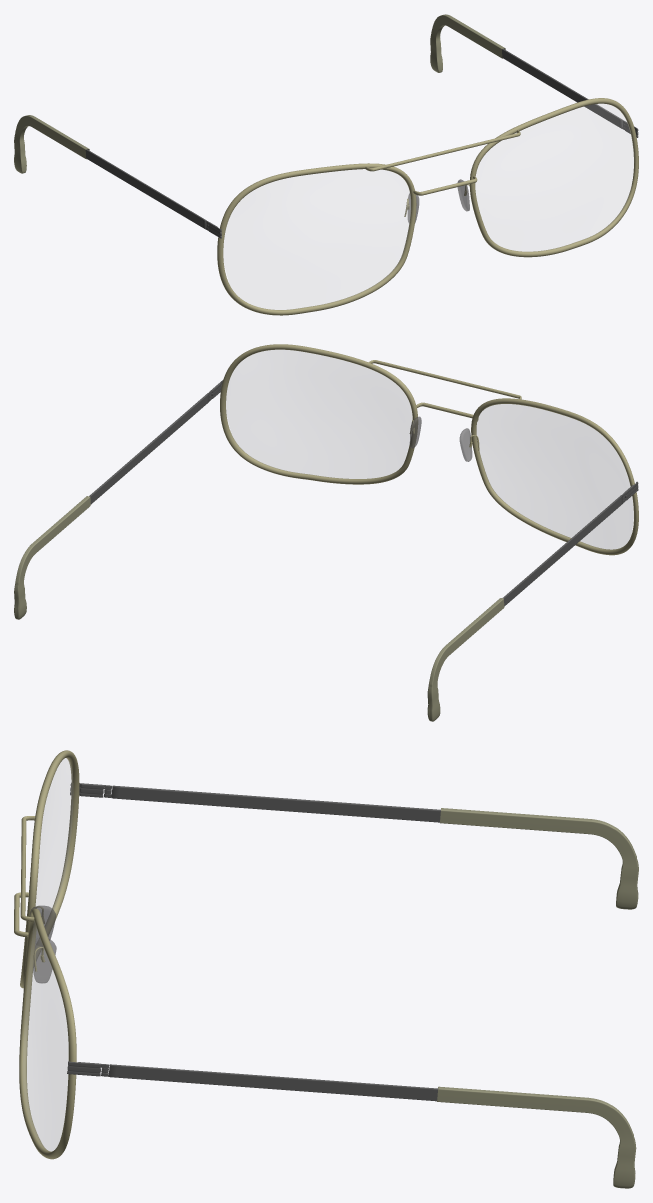
File: glasses4.glb
3 renders of one model, top to bottom at view 1: azimuth 30°, elevation 25°; view 2: azimuth 150°, elevation 25°; view 3: azimuth 270°, elevation 25°, orthographic. The views are drawn at different scales.
Parts seen in each view (by area): view 1: BezierCurve.001, BezierCurve, Cube.002, Cube.001, Cylinder; view 2: BezierCurve.001, BezierCurve, Cube.002, Cube.001, Cylinder, Cylinder.002; view 3: BezierCurve.001, Cube.001, Cube.002, BezierCurve, Cylinder.002, Cylinder.
Part boxes in pixels (<box>): BezierCurve.001: <box>223,104,633,309</box>; BezierCurve: <box>217,98,638,315</box>; Cube.002: <box>14,14,505,173</box>; Cube.001: <box>85,48,638,238</box>; Cylinder: <box>365,130,520,171</box>; BezierCurve.001: <box>226,350,633,549</box>; BezierCurve: <box>220,344,638,555</box>; Cube.002: <box>14,496,504,721</box>; Cube.001: <box>89,380,638,606</box>; Cylinder: <box>368,360,521,399</box>; Cylinder.002: <box>409,416,472,461</box>; BezierCurve.001: <box>23,758,73,1151</box>; Cube.001: <box>67,782,440,1101</box>; Cube.002: <box>437,808,638,1188</box>; BezierCurve: <box>19,750,79,1159</box>; Cylinder.002: <box>30,905,56,983</box>; Cylinder: <box>20,816,35,921</box>.
Bounding box in the file's own units: 331 × 104 × 309.
